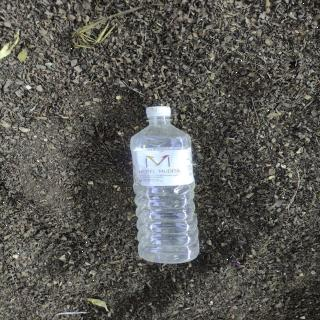Plastic-bottle: (128, 102, 208, 268)
